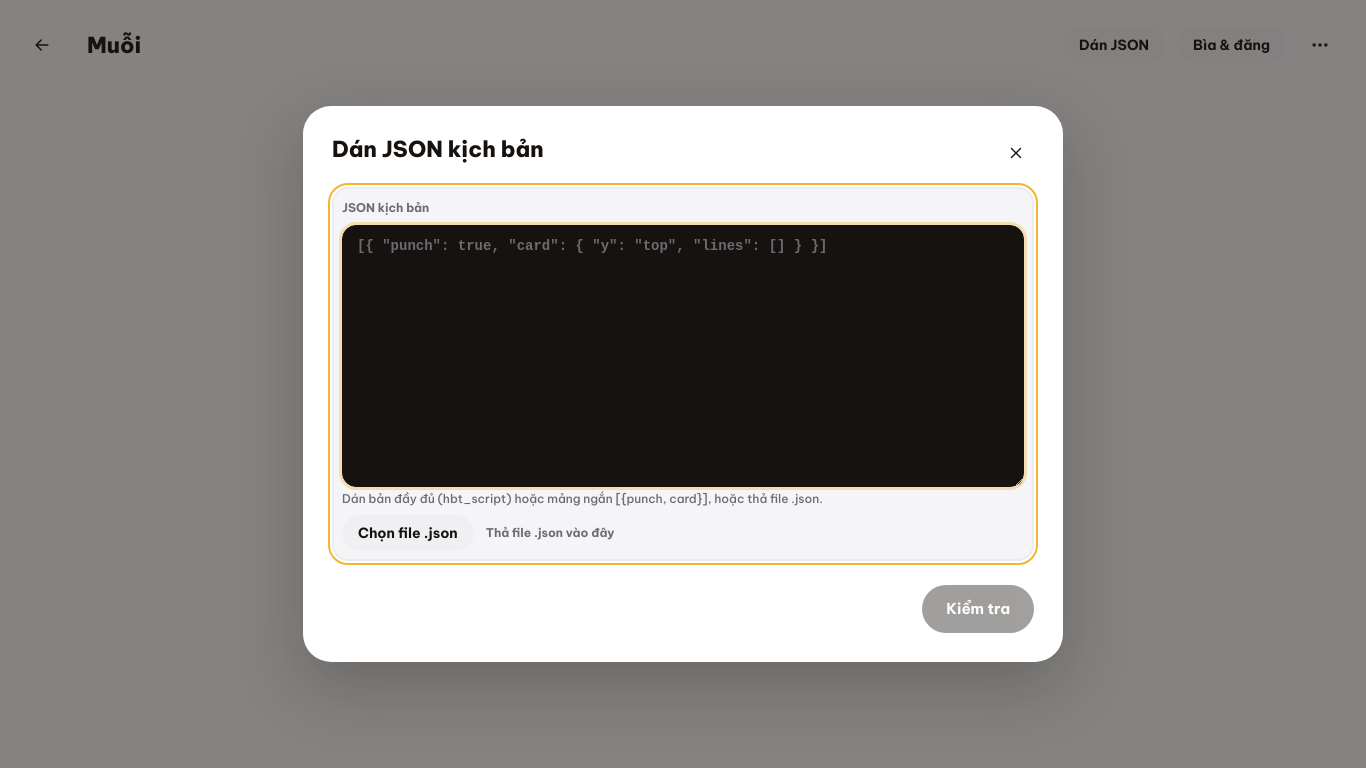
Test case: PasteJsonDialog — Dán và Kiểm tra › collapses added scenes into "+k cảnh mới"
Type "[]" into the text box labelled "JSON kịch bản".
click(683, 356); type("[]")  # box [342, 225, 1024, 487]
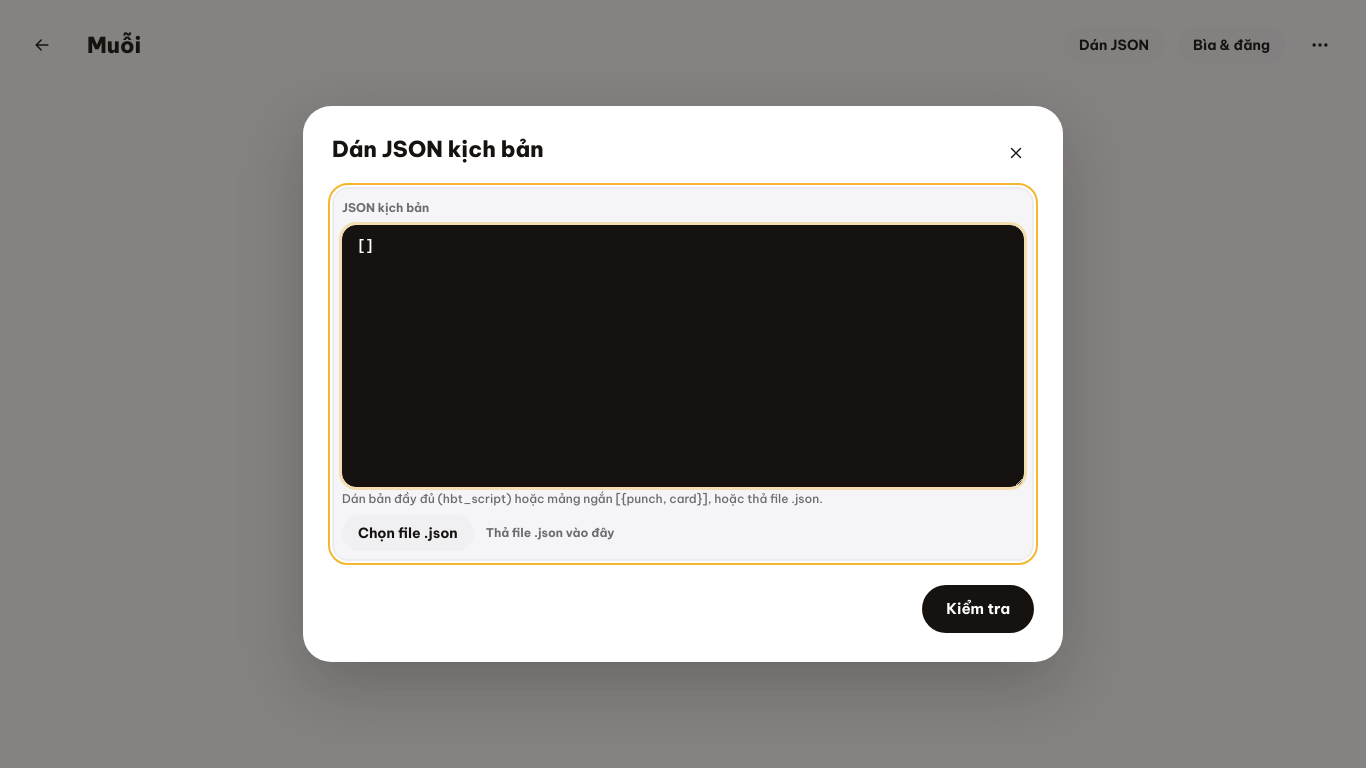
Click the button "Kiểm tra".
click(978, 609)  # box [922, 585, 1034, 633]
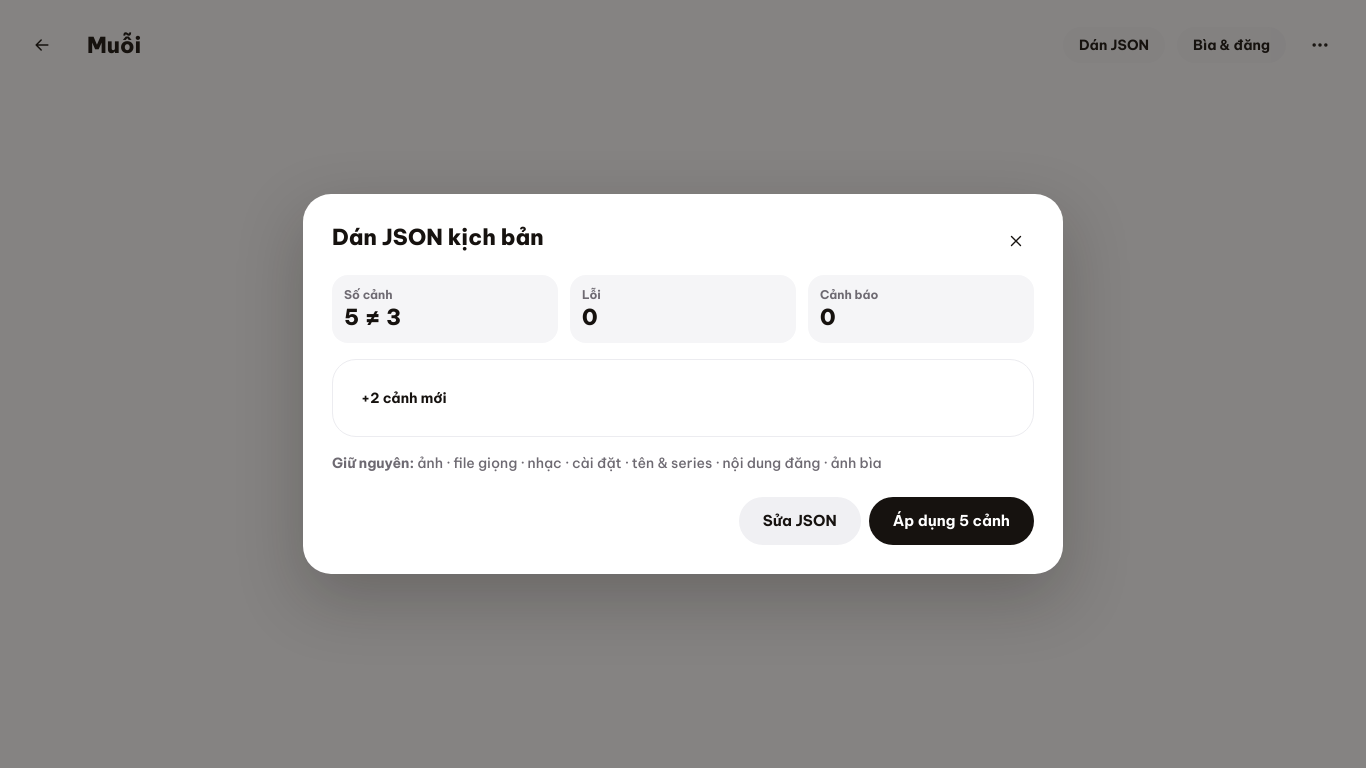
Expected: the text "Cảnh bốn" is not shown
Click the button "+2 cảnh mới".
click(404, 398)  # box [349, 376, 1017, 420]
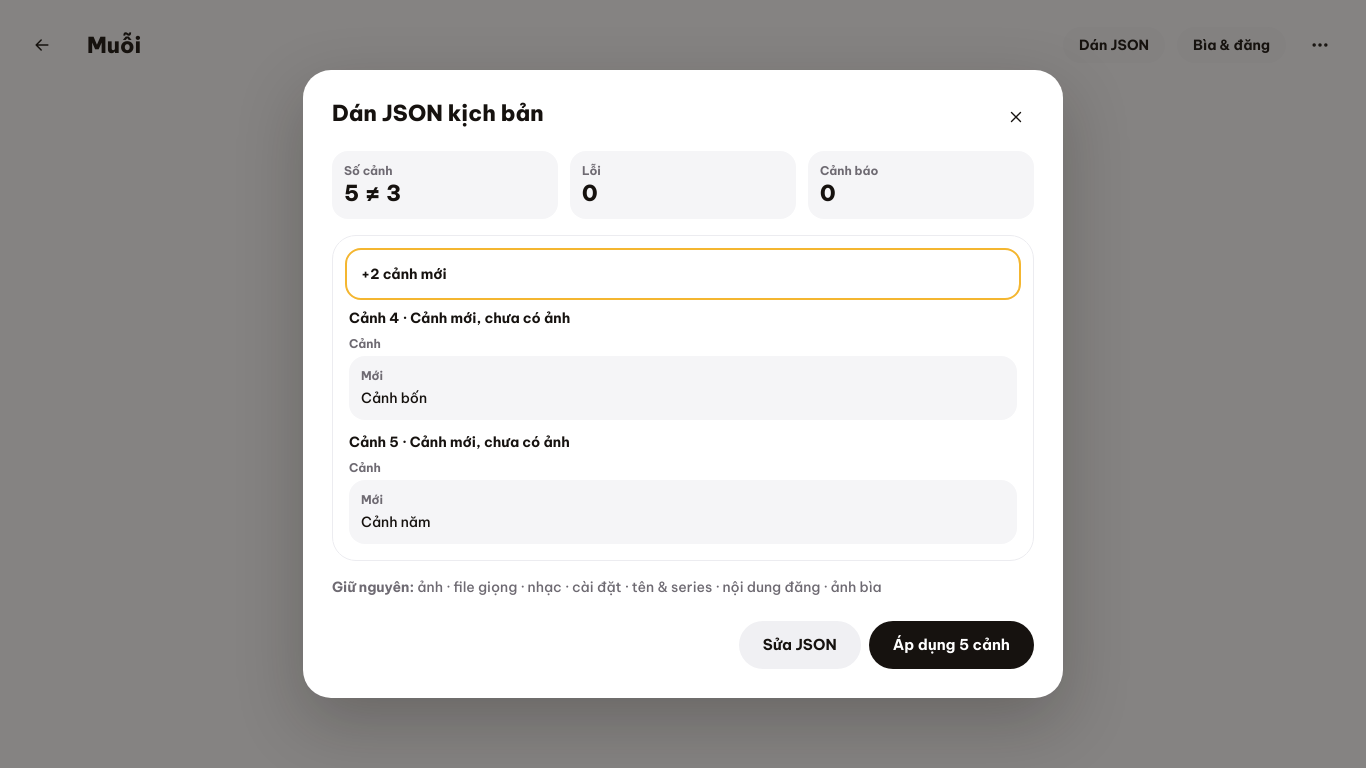
Now the text "Cảnh bốn" is shown, box [361, 389, 427, 407]
